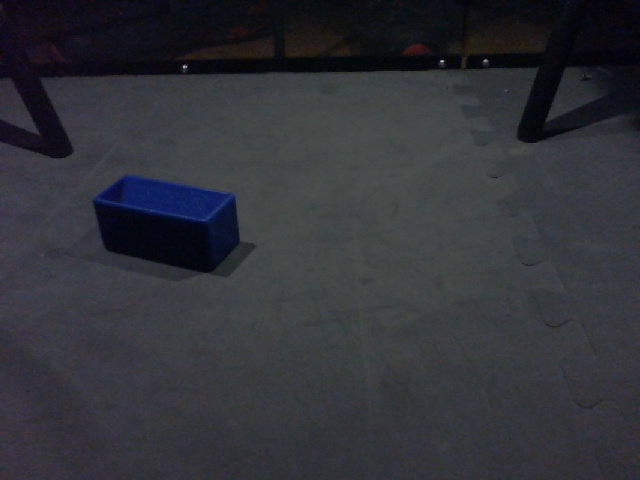BlueSample: (91, 172, 244, 276)
